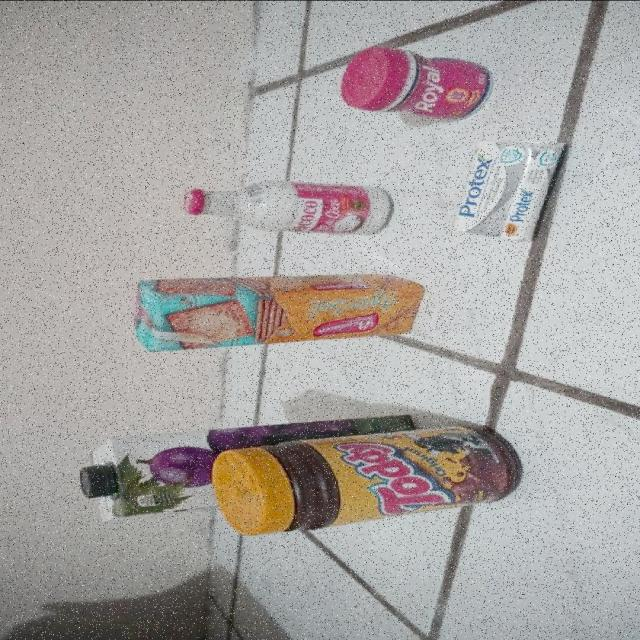ChocolatePowder: (212, 422, 525, 536)
CoconutMilk: (180, 178, 392, 236)
Cracker: (129, 272, 424, 352)
Soap: (449, 137, 571, 242)
Yeast: (336, 46, 496, 120)
